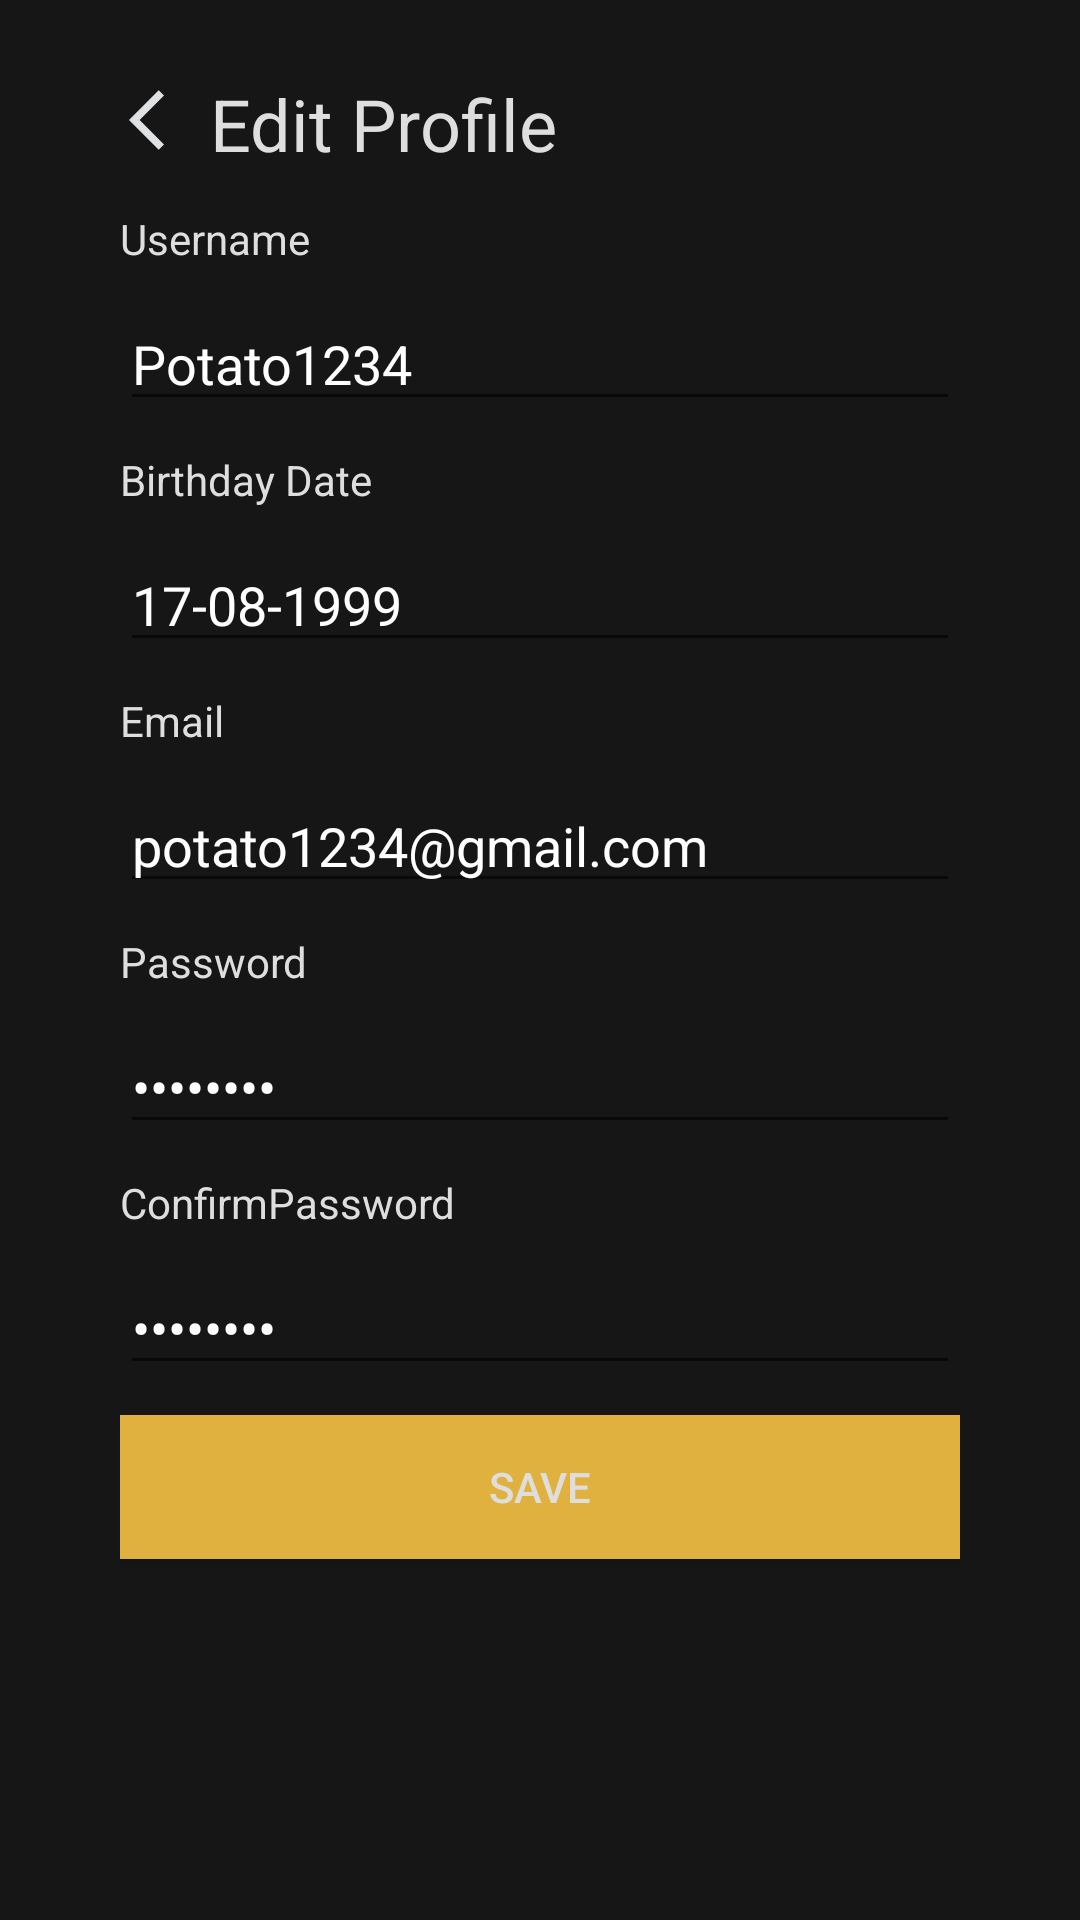

Icons on this 1080px×1920px Android screen, each with its box as bbox=[x1, y1, x2, y2]:
back: bbox=[129, 90, 164, 150]
